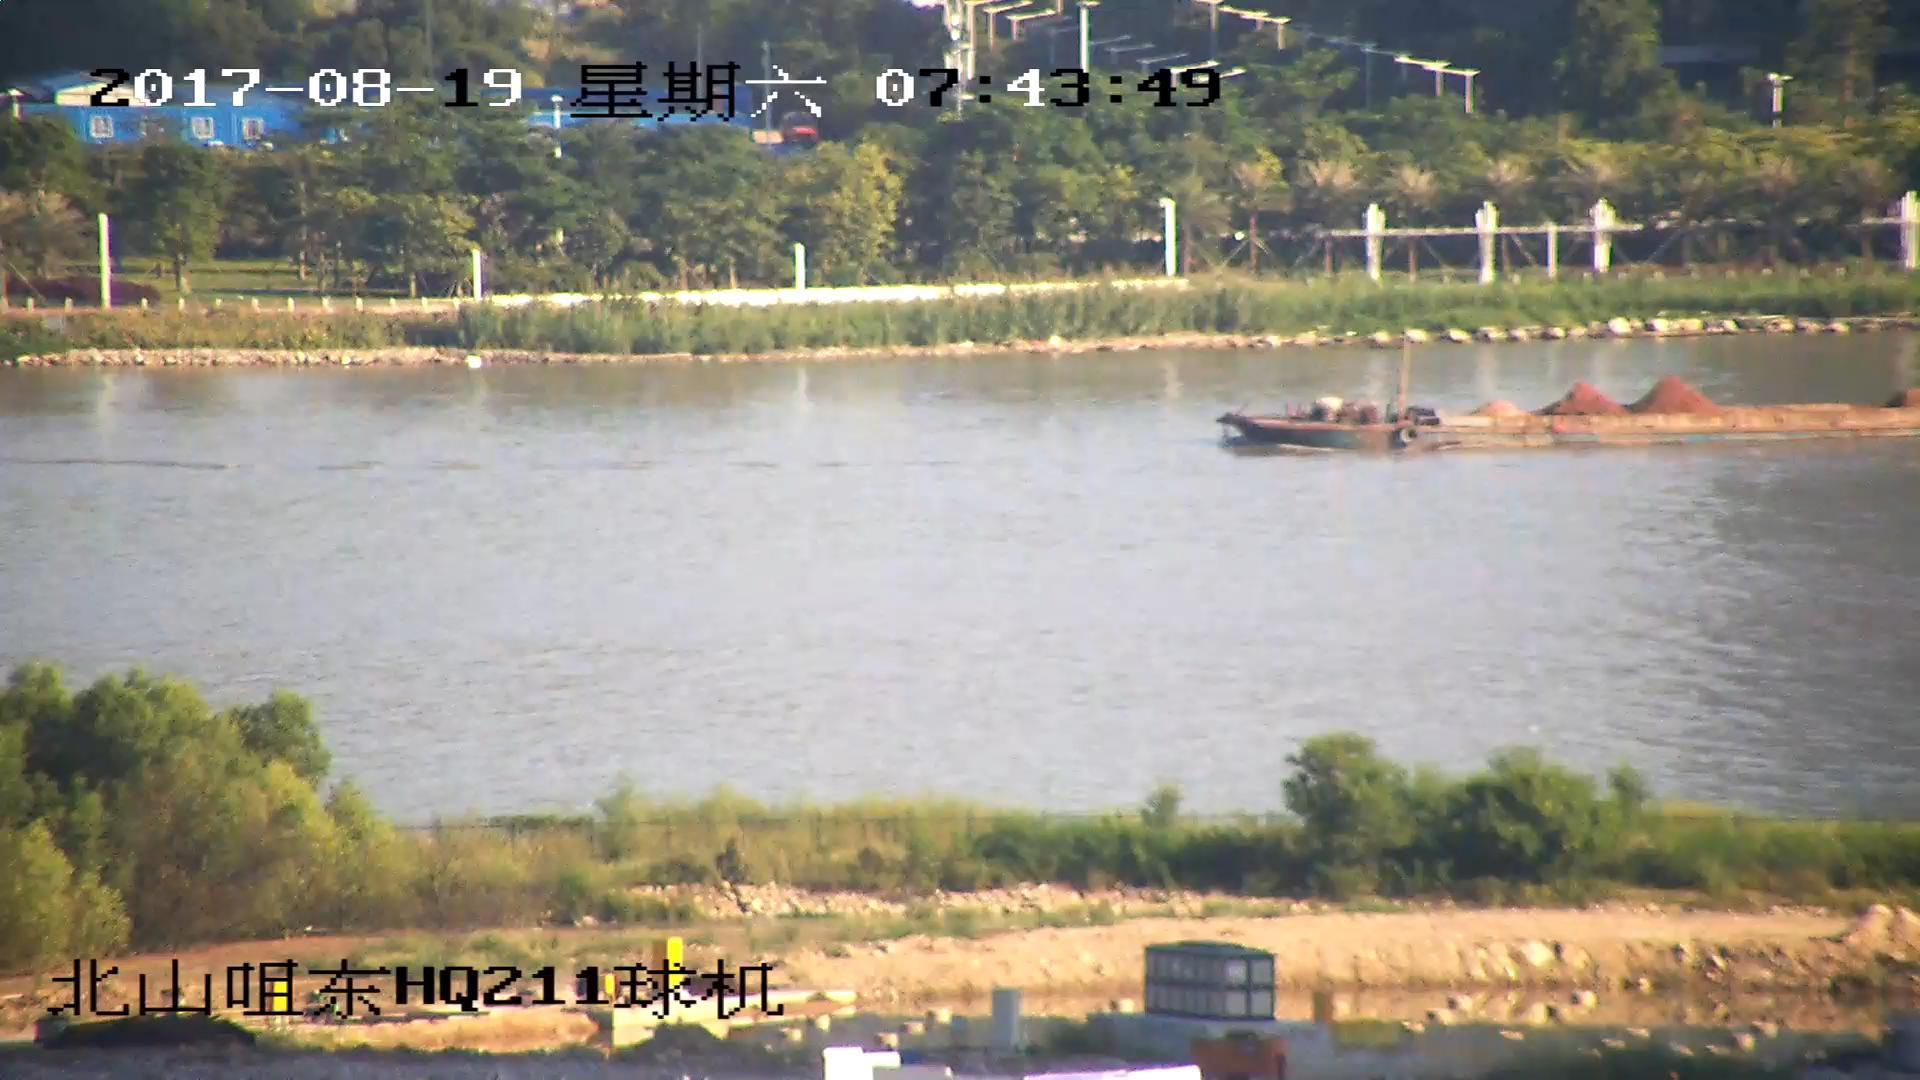Ship: (1217, 349, 1920, 462)
